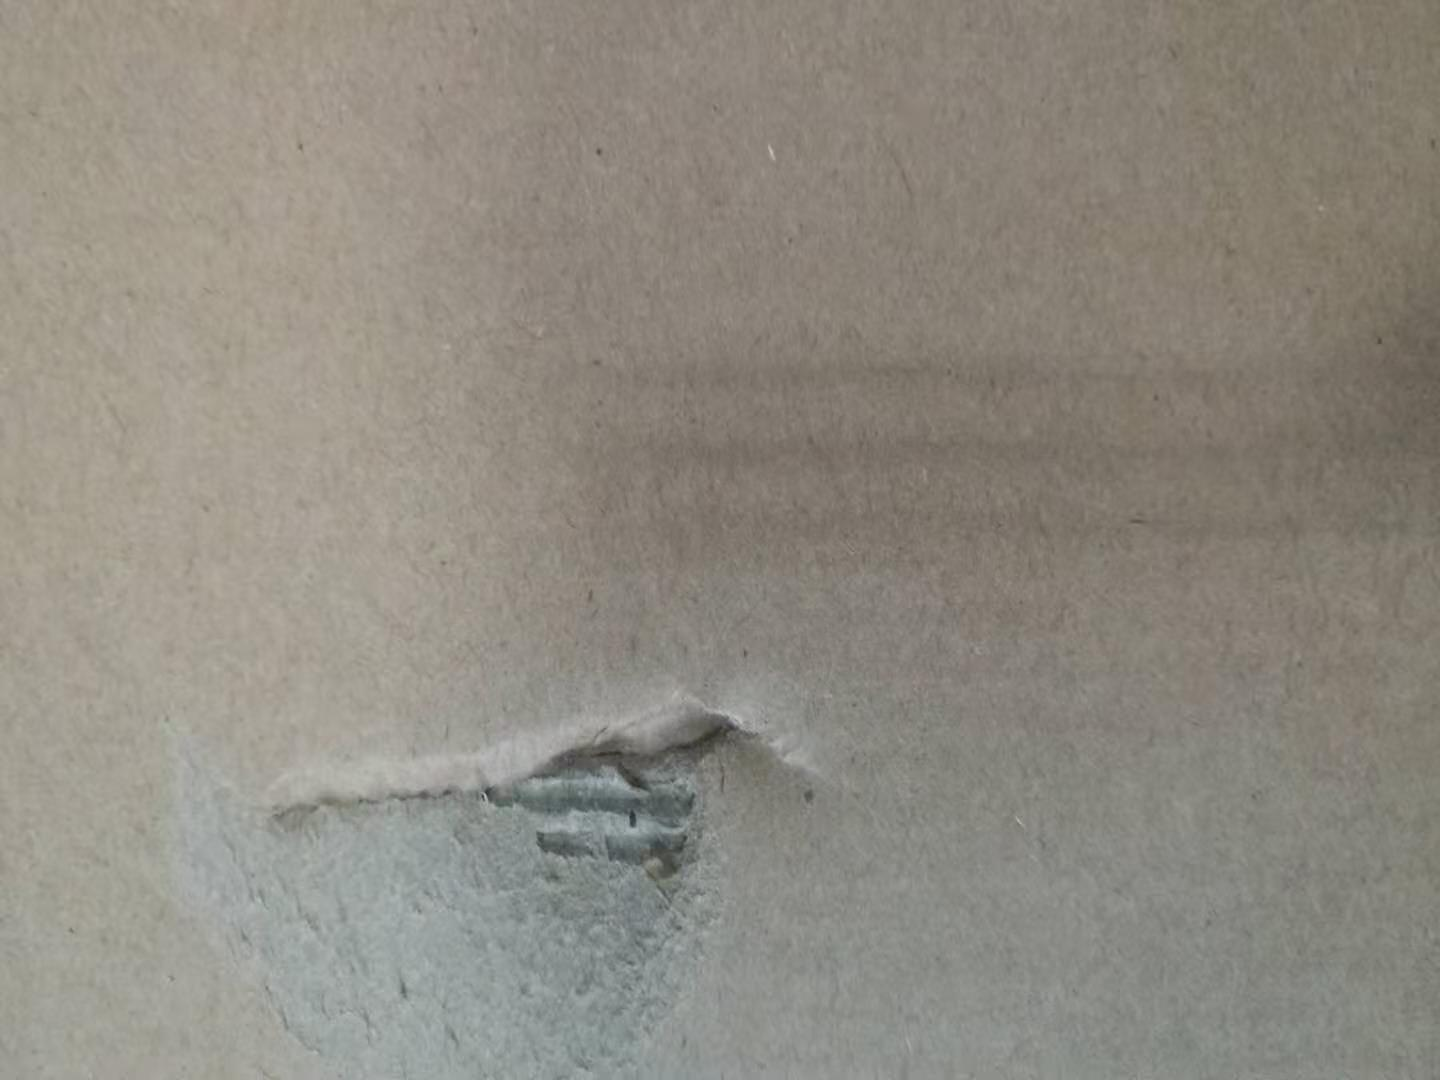defect: (137, 656, 890, 1080)
